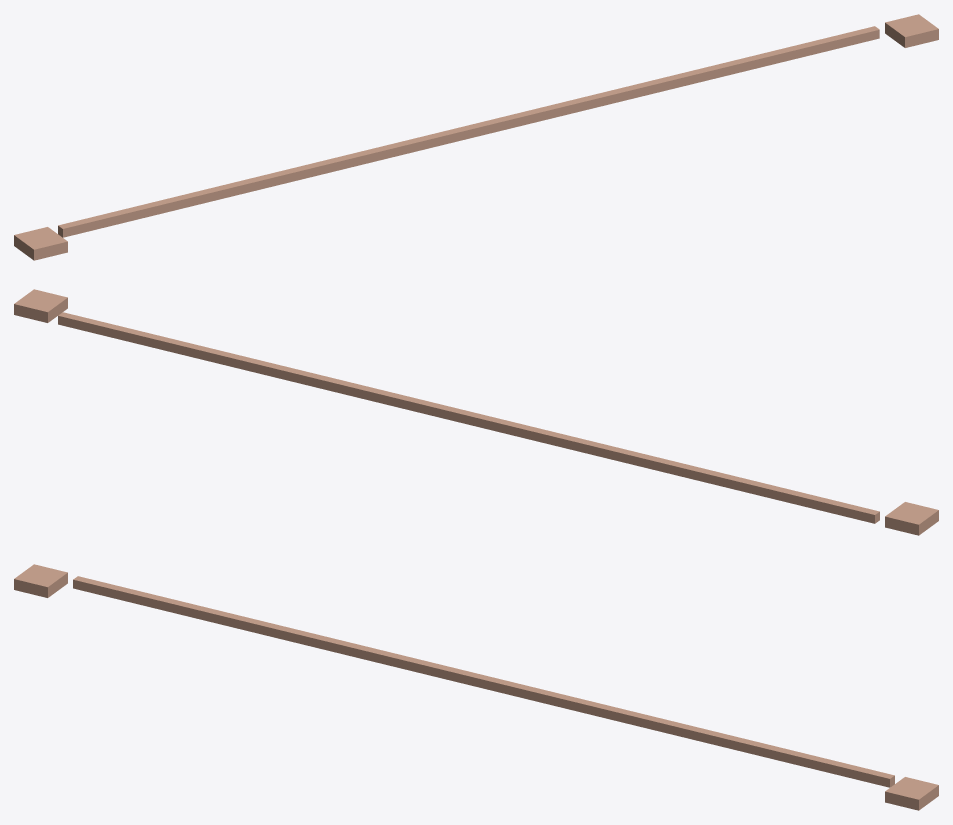
File: Scale.fbx
3 views of the same model, one above another, from view 1: azimuth 30°, elevation 25°; view 2: azimuth 150°, elevation 25°; view 3: azimuth 330°, elevation 25° (orthographic).
Visible parts, largest first — view 1: Beam, Left Platform, Right Platform; view 2: Beam, Left Platform, Right Platform; view 3: Beam, Left Platform, Right Platform.
Boxes of the visible parts, <box> form: Beam: <box>58,26,879,237</box>; Left Platform: <box>14,227,67,260</box>; Right Platform: <box>885,14,938,47</box>; Beam: <box>58,312,879,523</box>; Left Platform: <box>885,502,938,535</box>; Right Platform: <box>14,289,67,322</box>; Beam: <box>73,576,894,787</box>; Left Platform: <box>14,564,67,597</box>; Right Platform: <box>885,777,938,810</box>.
Bounding box in the file's own units: 5189 × 60 × 200.
